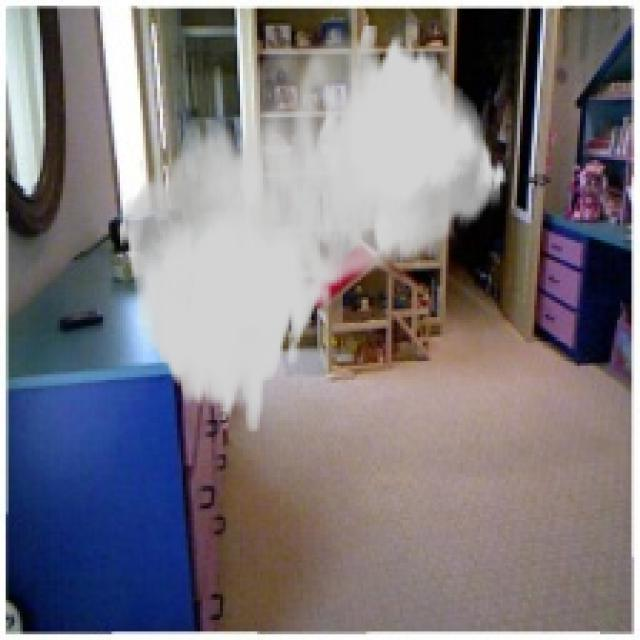Smoke: (117, 22, 509, 432)
